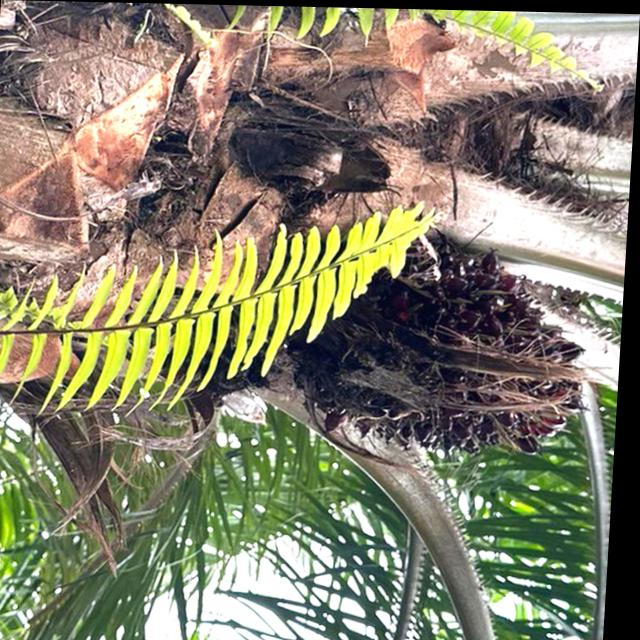ripe: (275, 221, 617, 476)
